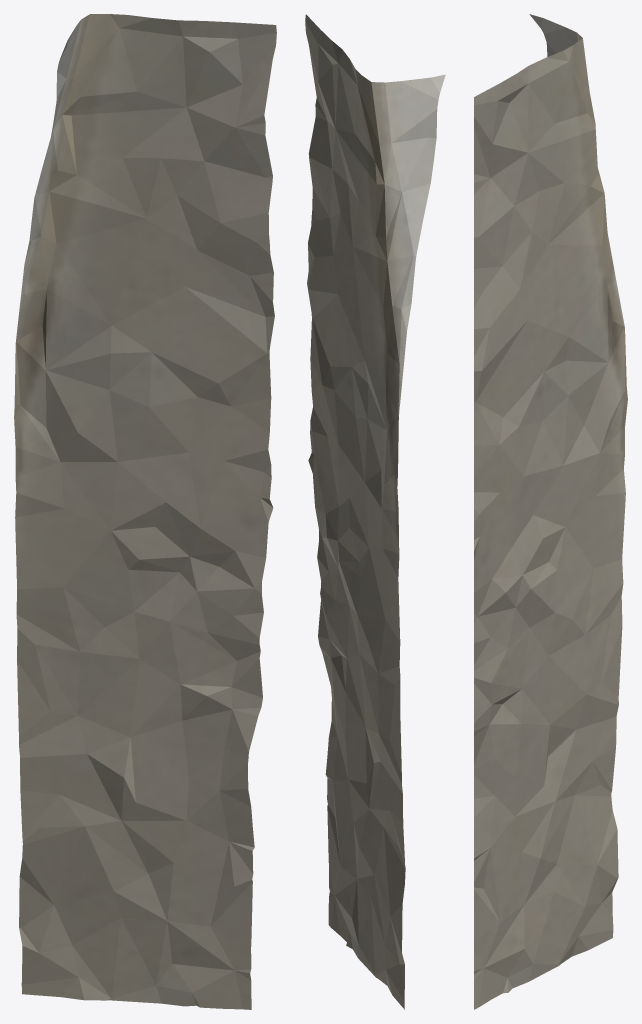
3 views of the same model, side by side, from view 1: azimuth 30°, elevation 25°; view 2: azimuth 150°, elevation 25°; view 3: azimuth 270°, elevation 25° (orthographic). The views are drawn at different scales.
Size of the model in its own units: 0.1623 by 0.8373 by 0.1264.
Materials: 1 (1 with a texture image).
